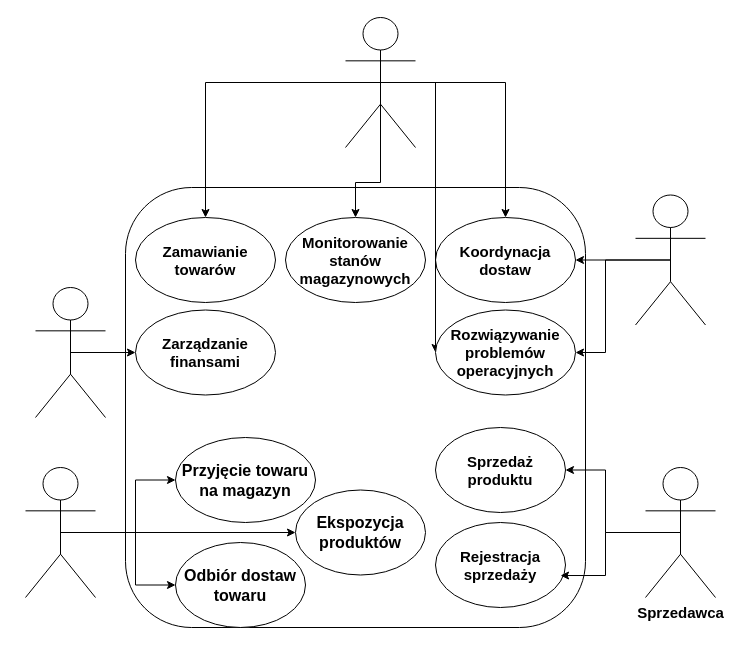
This 741x645 diagram has some shape labels left out. The box of each missing label's shape, as (x1, y1, x2, y2) in pixels:
Dostawca: (634, 194, 706, 325)
Księgowy: (34, 286, 106, 418)
Magazynier: (24, 466, 96, 598)
Menadżer sklepu: (344, 16, 416, 148)
SYSTEM: (124, 186, 586, 628)
